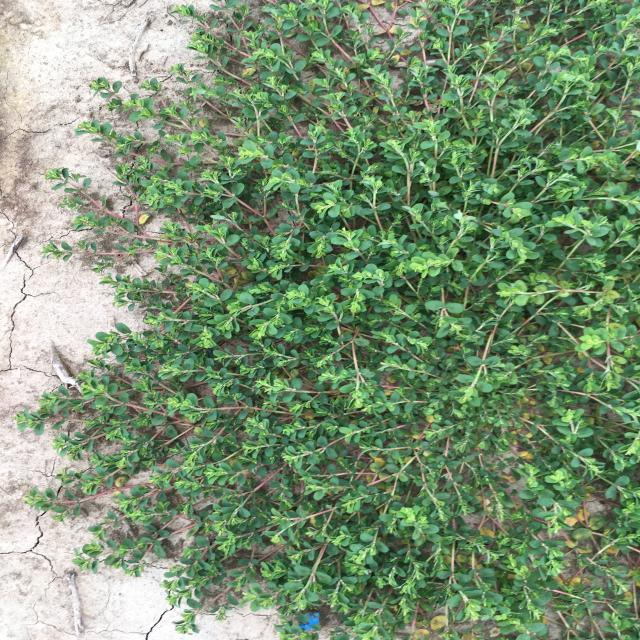SpottedSpurge: (14, 0, 640, 639)
